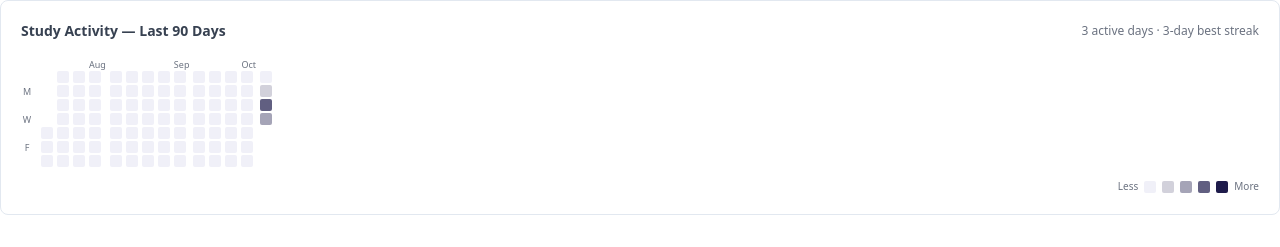
Test: hover and focus show a card; tap or Enter pins it › a tap pins the card, a second tap on the same day closes it even while hovered and focused
Hover over the button named "Tue, Oct 6, 2026: in-app 0m, offline 1h 30m, total study tim" at x=266, y=105, box [260, 99, 272, 111]
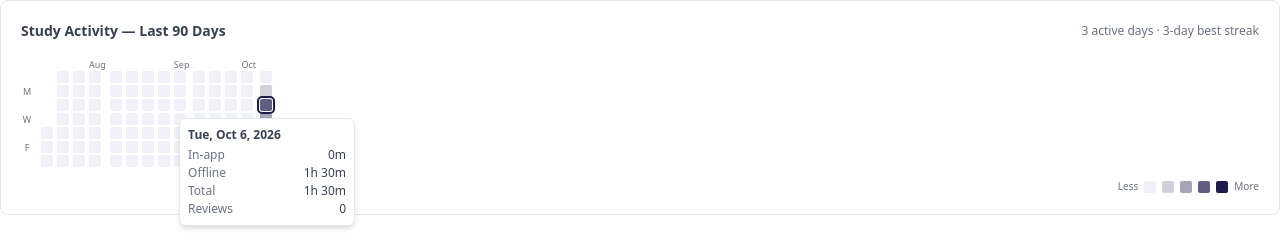
Click the button named "Tue, Oct 6, 2026: in-app 0m, offline 1h 30m, total study tim" at x=266, y=105, box [260, 99, 272, 111]
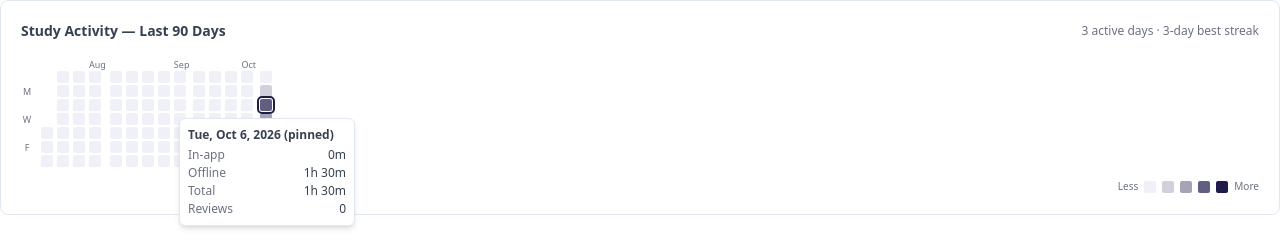
Expected: the element with test id "heatmap-card" shows "(pinned)", [281, 126, 334, 143]
Move the pointer off the button named "Tue, Oct 6, 2026: in-app 0m, offline 1h 30m, total study tim", box [260, 99, 272, 111]
Expected: the element with test id "heatmap-card" is shown, [179, 118, 355, 226]
Click the button named "Tue, Oct 6, 2026: in-app 0m, offline 1h 30m, total study tim" at x=266, y=105, box [260, 99, 272, 111]
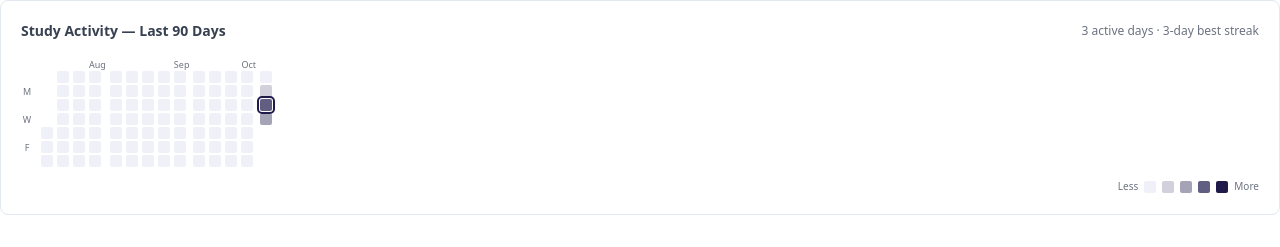
Expected: the element with test id "heatmap-card" is gone
